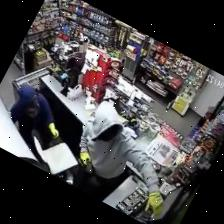person: (79, 101, 162, 214), (10, 85, 57, 150)
